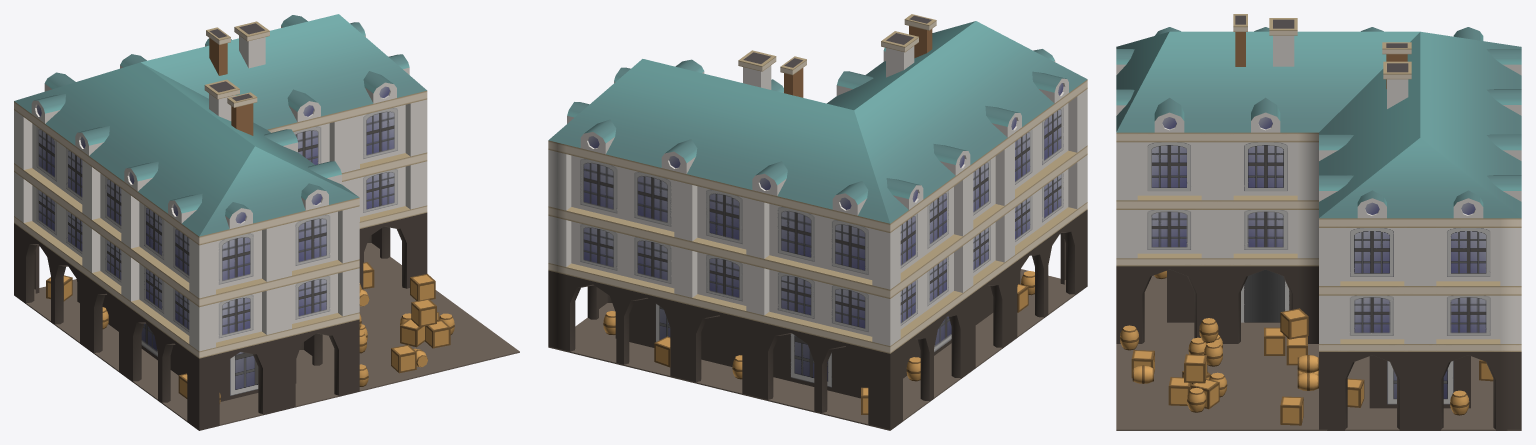
The model's file is Bat_Marche.fbx.
The picture shows the model from 3 angles, left to right: view 1: azimuth 30°, elevation 25°; view 2: azimuth 150°, elevation 25°; view 3: azimuth 270°, elevation 25°; orthographic projection. The views are drawn at different scales.
Parts seen in each view (by area): view 1: Bat_Marche; view 2: Bat_Marche; view 3: Bat_Marche.
Part boxes in pixels (left/top/right/bottom): Bat_Marche: left=14, top=14, right=519, bottom=430; Bat_Marche: left=548, top=14, right=1087, bottom=430; Bat_Marche: left=1116, top=14, right=1521, bottom=430.
Size of the model in its own units: 38 by 30.33 by 38.
